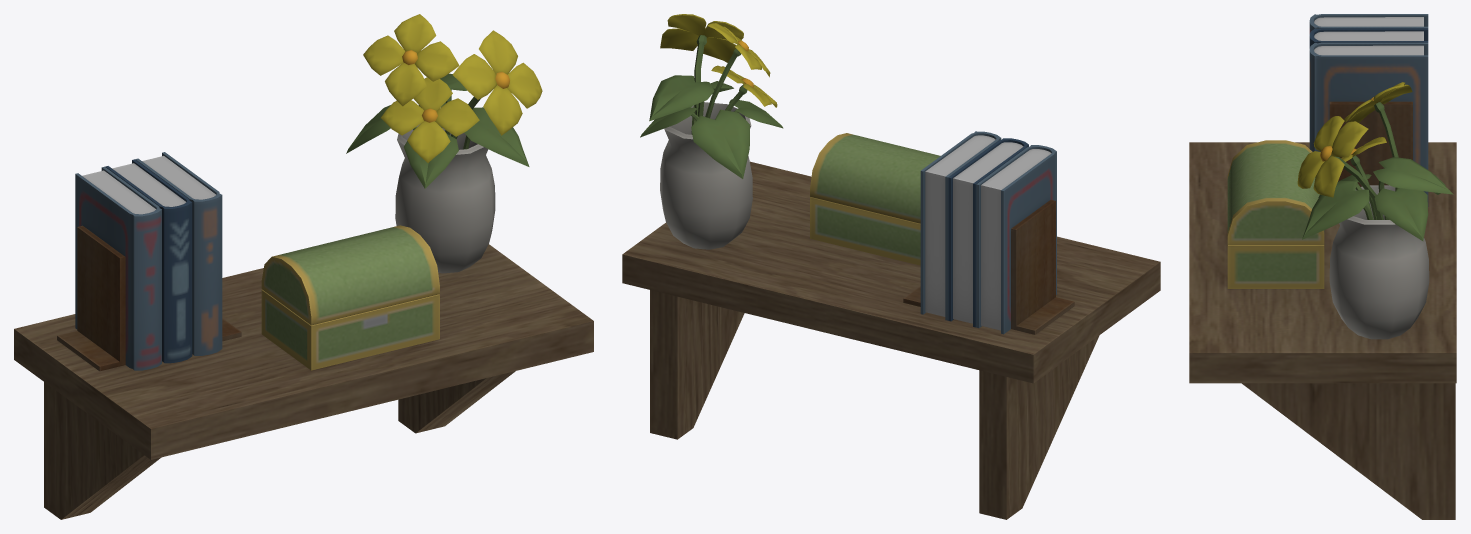
File: sb_obj_indoor021_WallShalf02a.fbx
The picture shows the model from 3 angles, left to right: view 1: azimuth 30°, elevation 25°; view 2: azimuth 150°, elevation 25°; view 3: azimuth 270°, elevation 25°; orthographic projection. The views are drawn at different scales.
Parts seen in each view (by area): view 1: sb_obj_indoor021_WallShalf02a; view 2: sb_obj_indoor021_WallShalf02a; view 3: sb_obj_indoor021_WallShalf02a.
Part boxes in pixels (<box>): sb_obj_indoor021_WallShalf02a: <box>14,14,593,519</box>; sb_obj_indoor021_WallShalf02a: <box>622,14,1160,519</box>; sb_obj_indoor021_WallShalf02a: <box>1189,14,1456,519</box>.
Size of the model in its own units: 0.7559 by 0.664 by 0.3851.
